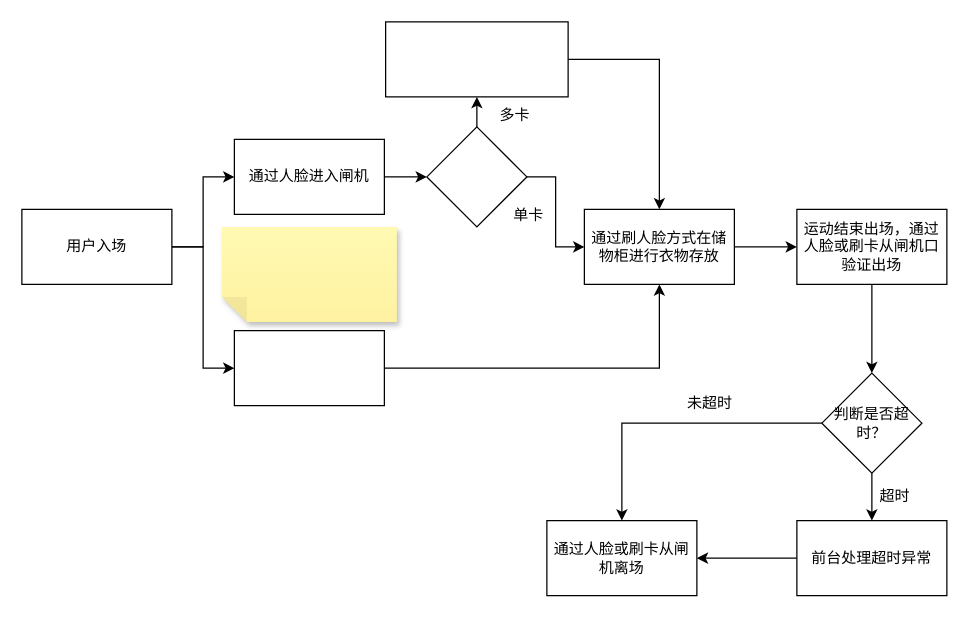
Some shapes in this 969 by 618 pixel diagram are drawn without their labels. Here are the shapes that lost their labels. From the top down, the centre of each, then its label:
At point (476, 59): "存在多张卡规则扣费： 1、效期卡优先 2、低费先扣（金额卡和次卡需判断单次费用）".
At point (476, 176): "是否有多张卡？".
At point (310, 275): "通过人脸、或刷卡入场，需要判断是否有未处理的记录，有记录不能入场，需要先去前台处理异常".
At point (308, 367): "通过刷卡进入闸机".
